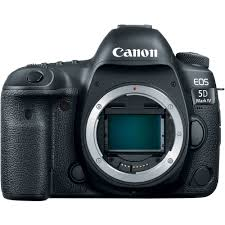camera: (2, 37, 220, 198)
